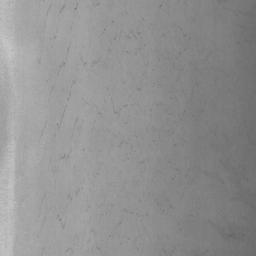Silk spot: (56, 108, 65, 129), (55, 61, 66, 75), (126, 31, 142, 39)
